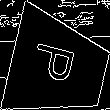P_E: (31, 43, 86, 91)
